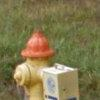Hydrant: (12, 22, 77, 100)
